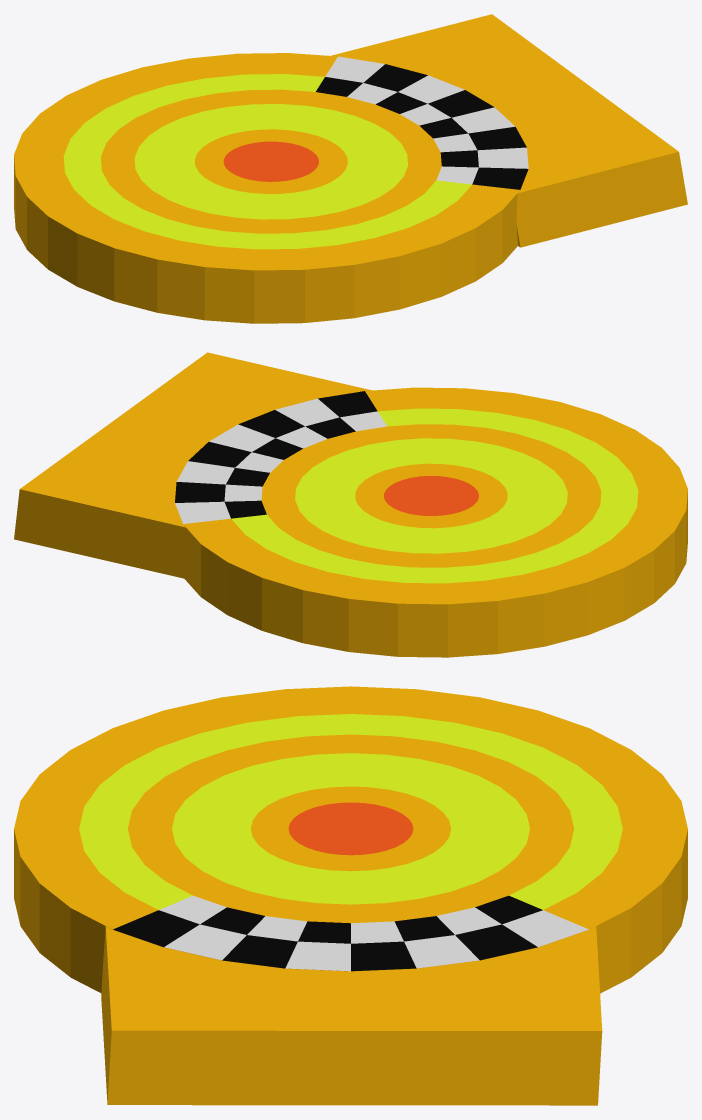
File: FinishArena-2.fbx
The picture shows the model from 3 angles, top to bottom: view 1: azimuth 30°, elevation 25°; view 2: azimuth 150°, elevation 25°; view 3: azimuth 270°, elevation 25°; orthographic projection. The views are drawn at different scales.
Parts seen in each view (by area): view 1: Cylinder; view 2: Cylinder; view 3: Cylinder.
Boxes of the visible parts, left/top/right/bottom form: Cylinder: left=14, top=14, right=687, bottom=323; Cylinder: left=14, top=352, right=687, bottom=657; Cylinder: left=14, top=686, right=687, bottom=1105.
Bounding box in the file's own units: 838 × 78.22 × 683.
